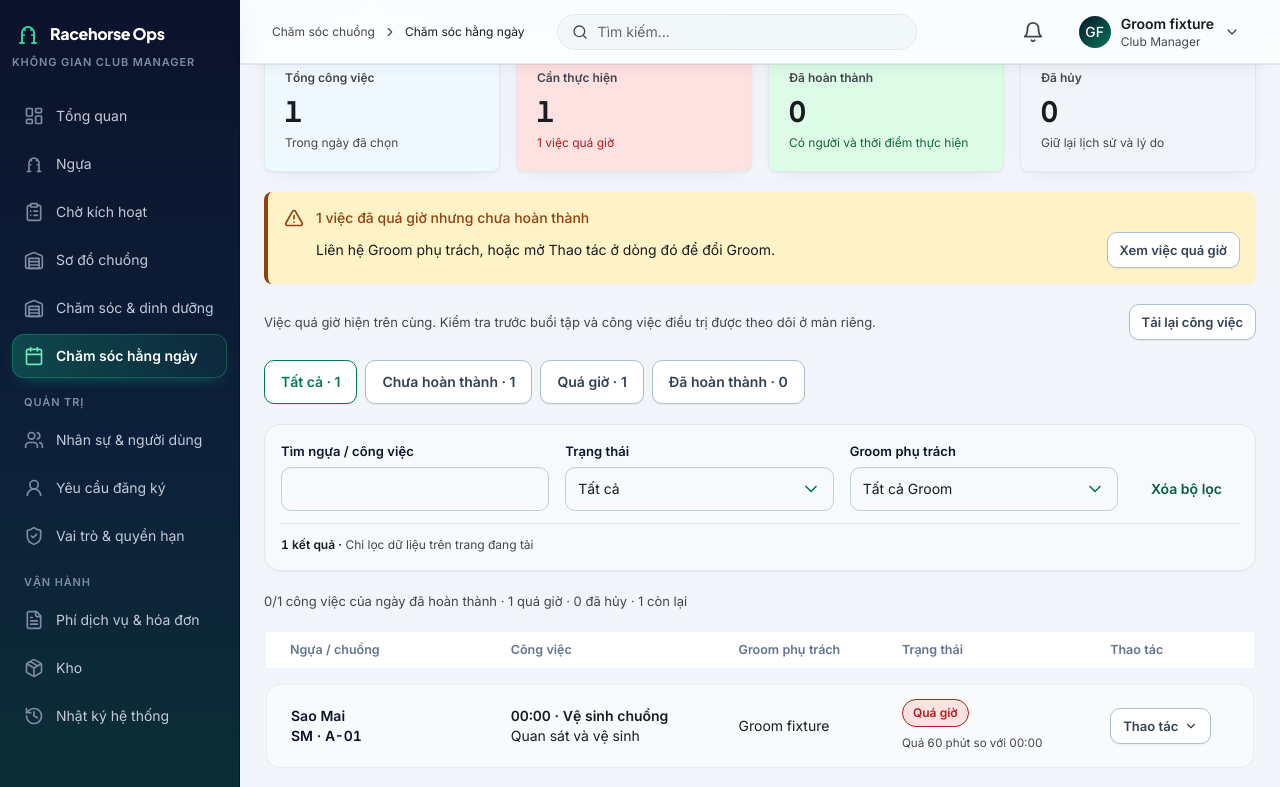
Flow 4 API-only UI › reassigns a pending task with an explicit reason and the expected current Groom
The width and height of the screenshot is (1280, 787).
(page scrolled)
Click the button "Thao tác" at (1161, 726), box [1110, 708, 1211, 744]
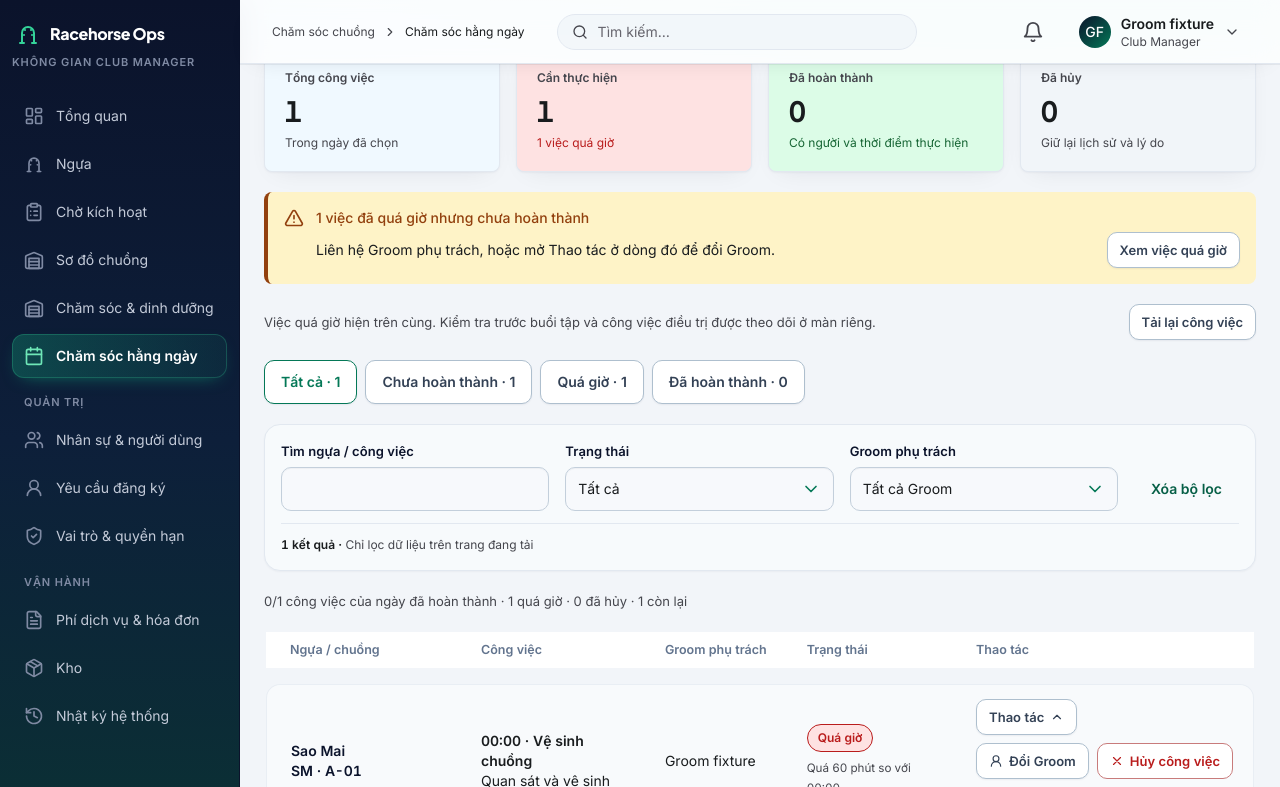
Click the button "Đổi Groom" at (1032, 761), box [976, 743, 1089, 779]
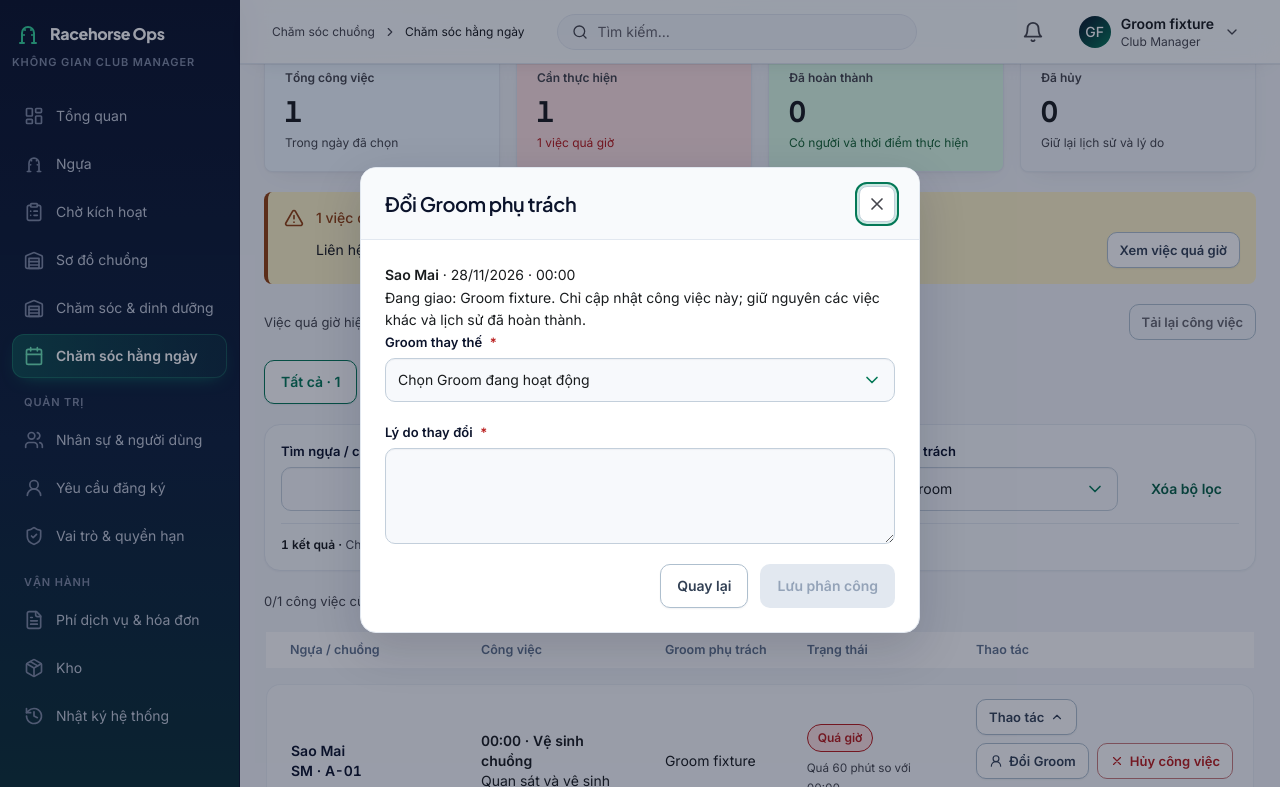
Select "Groom dự phòng" in the dropdown labelled "Groom thay thế" at (640, 380), box [386, 359, 894, 401]
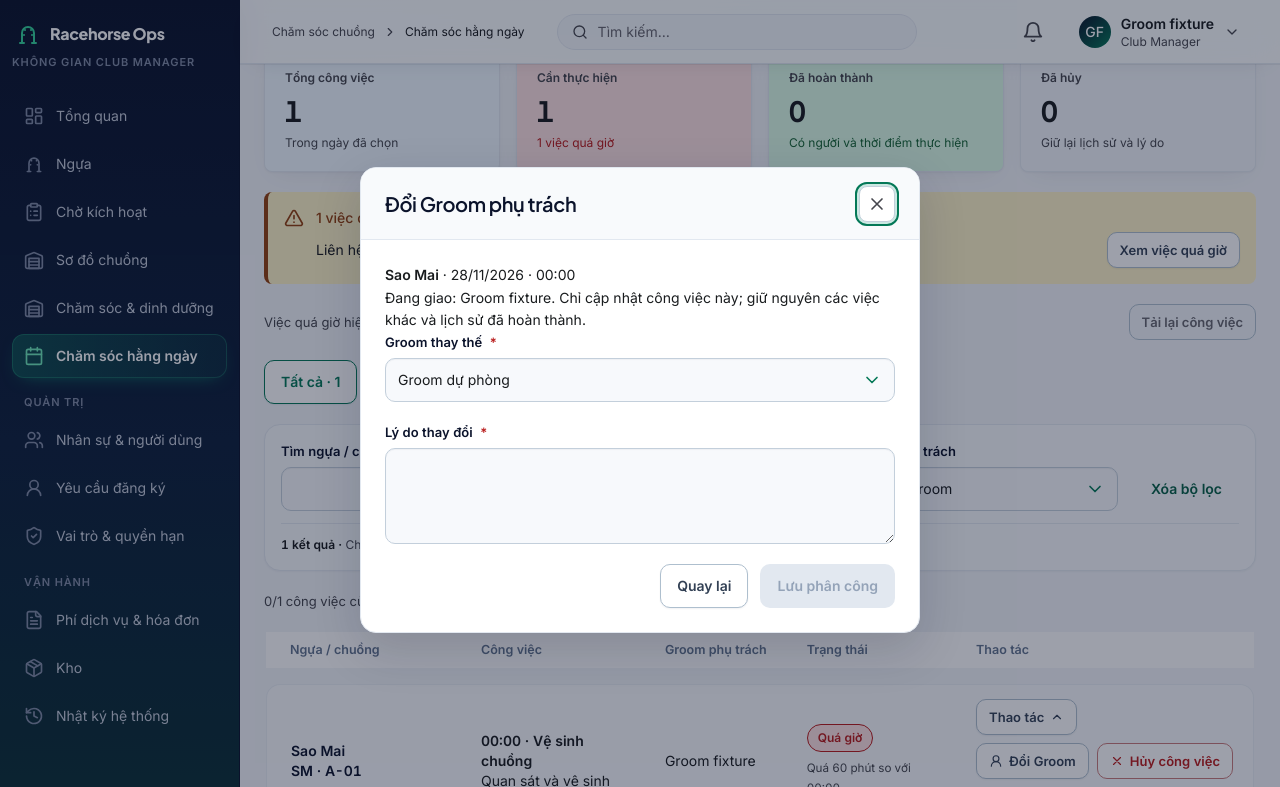
Type "Đổi ca trực" into the text box labelled "Lý do thay đổi" at (640, 496), box [385, 448, 895, 544]
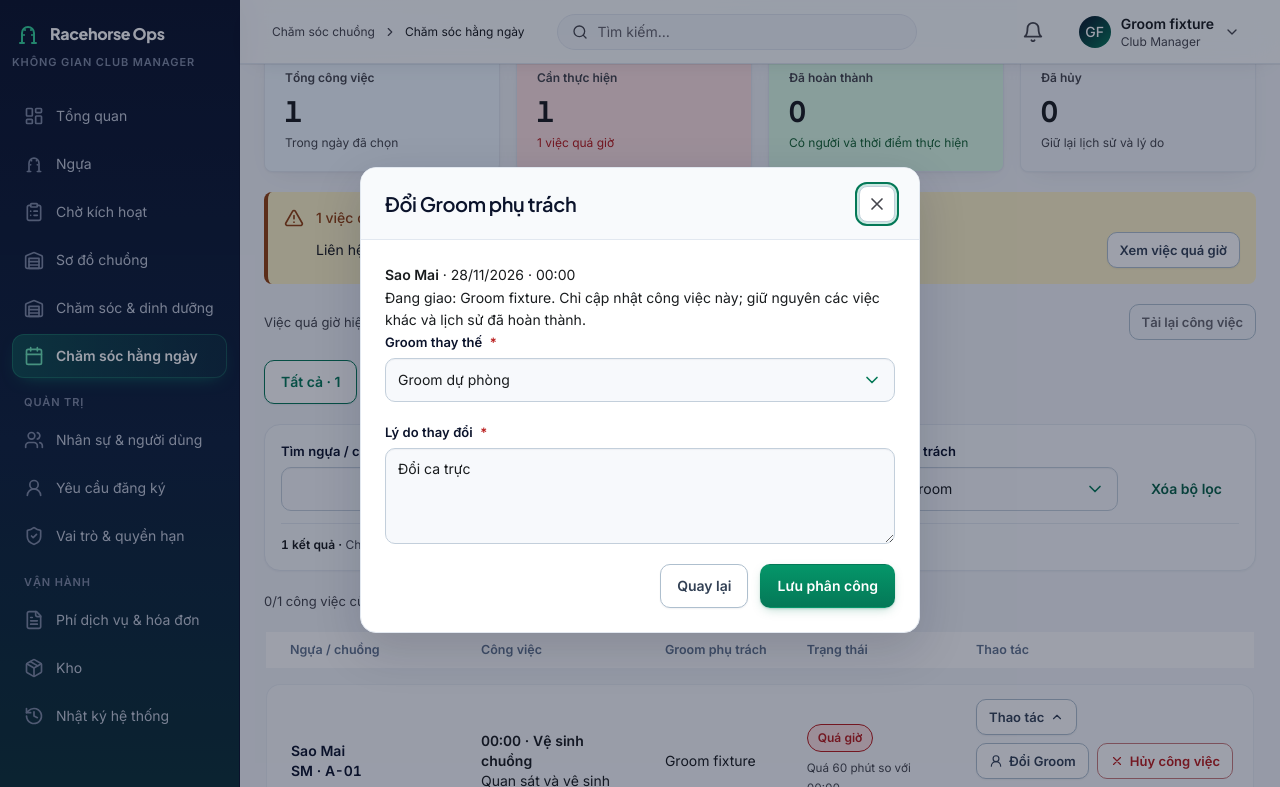
Click the button "Lưu phân công" at (828, 586), box [760, 564, 895, 608]
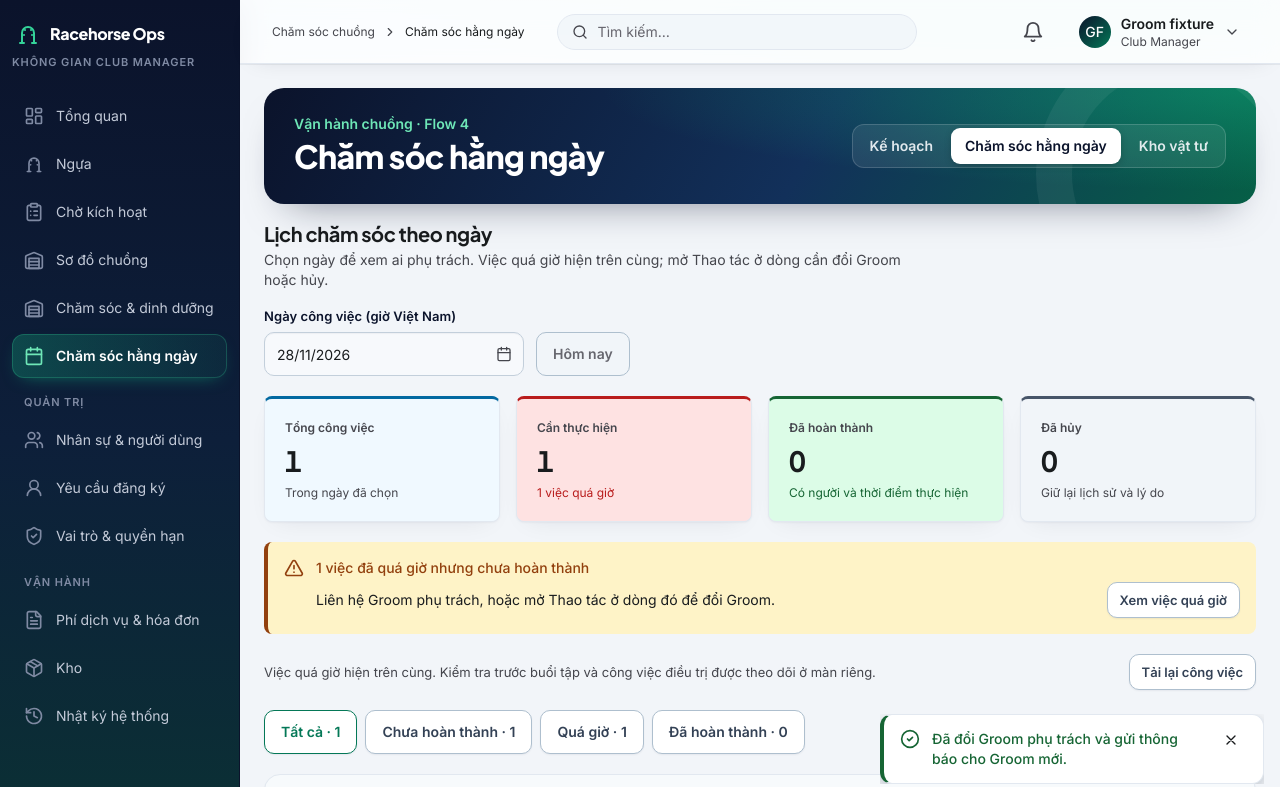
Result: the text "Đã đổi Groom phụ trách và gửi thông báo cho Groom mới." is shown at [932, 729, 1203, 769]
Result: the dialog is gone
Result: the field labelled "Ngày công việc (giờ Việt Nam)" is enabled at [264, 332, 524, 376]
